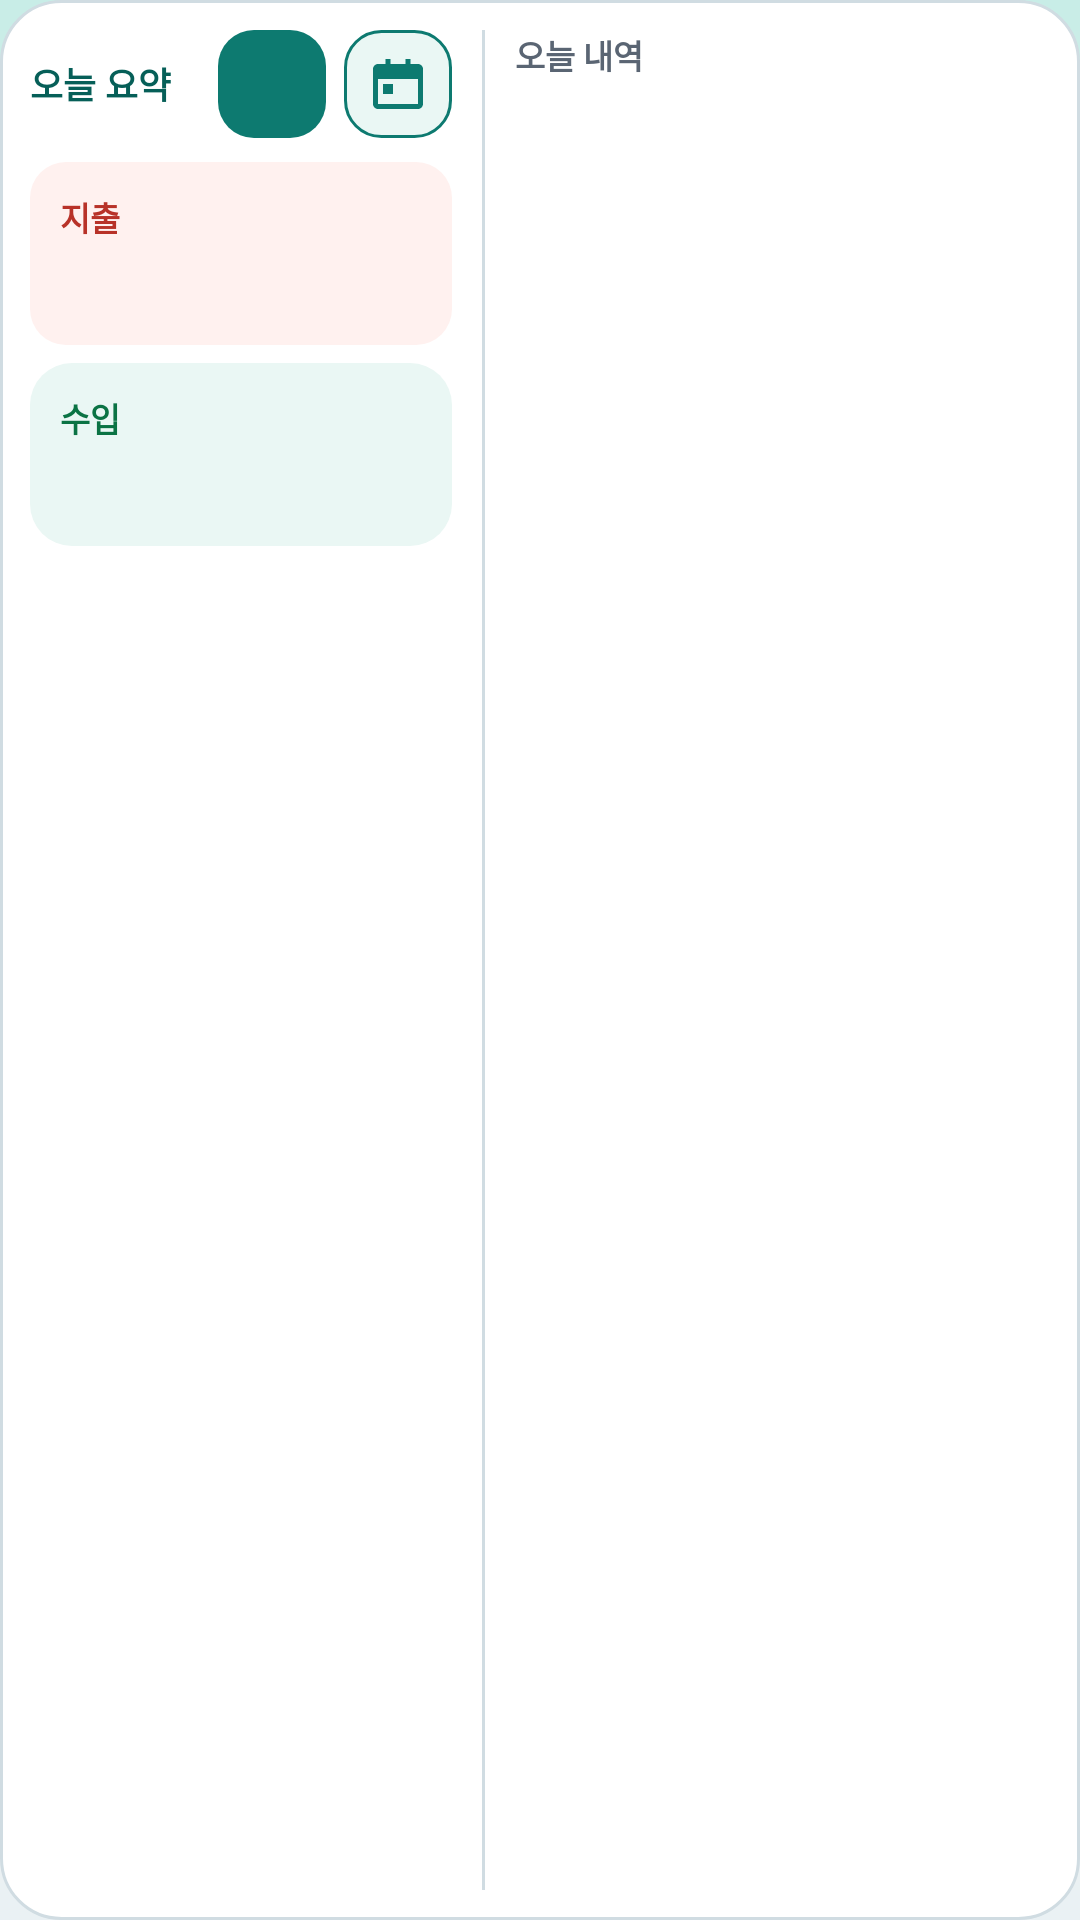

Named icons in this screenshot (1080*1920) and their bounding boxes, Rect(x1, y1, x2, y2):
달력: Rect(344, 30, 452, 138)
